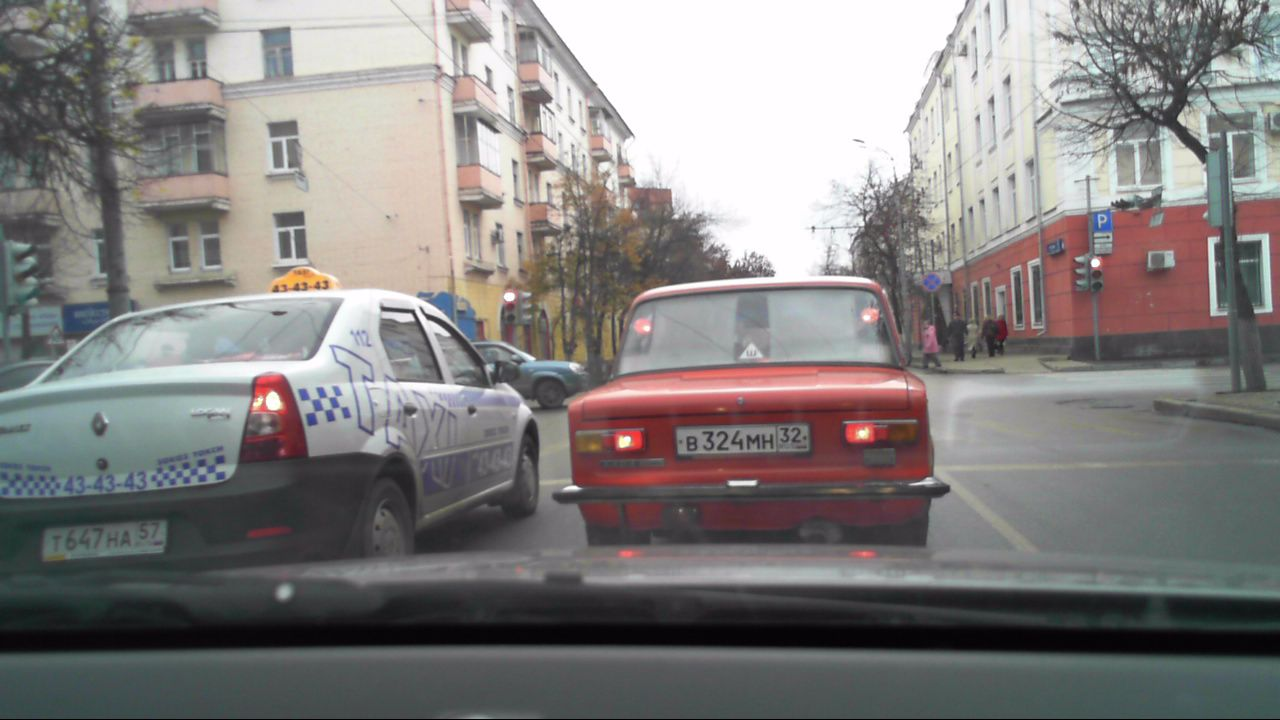No Parking: (920, 269, 944, 292)
